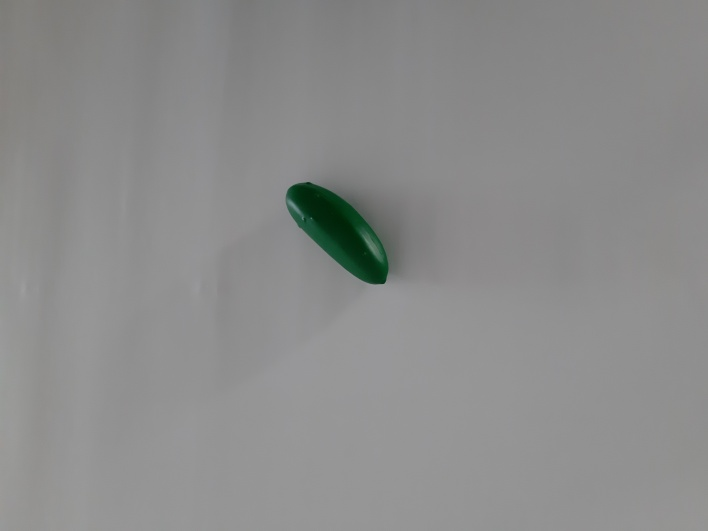cucumber: (268, 163, 416, 305)
